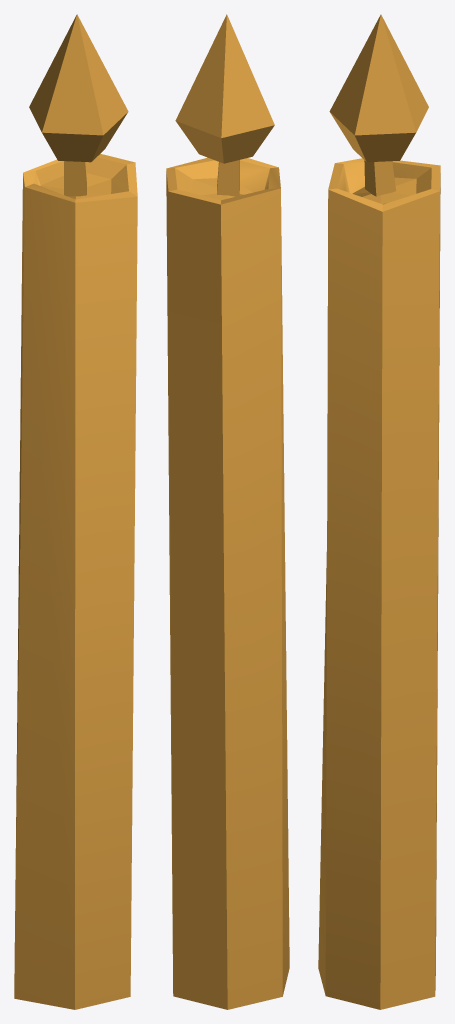
File: candle-stick-a-lit.fbx
3 views of the same model, side by side, from view 1: azimuth 30°, elevation 25°; view 2: azimuth 210°, elevation 25°; view 3: azimuth 330°, elevation 25° (orthographic).
Visible parts, largest first — view 1: candle-stick-a-lit; view 2: candle-stick-a-lit; view 3: candle-stick-a-lit.
Boxes of the visible parts, x1,y1,x2,y2 form: candle-stick-a-lit: (14,14,137,1009); candle-stick-a-lit: (166,14,289,1009); candle-stick-a-lit: (318,14,440,1009).
Size of the model in its own units: 0.0394 by 0.3004 by 0.0324.
